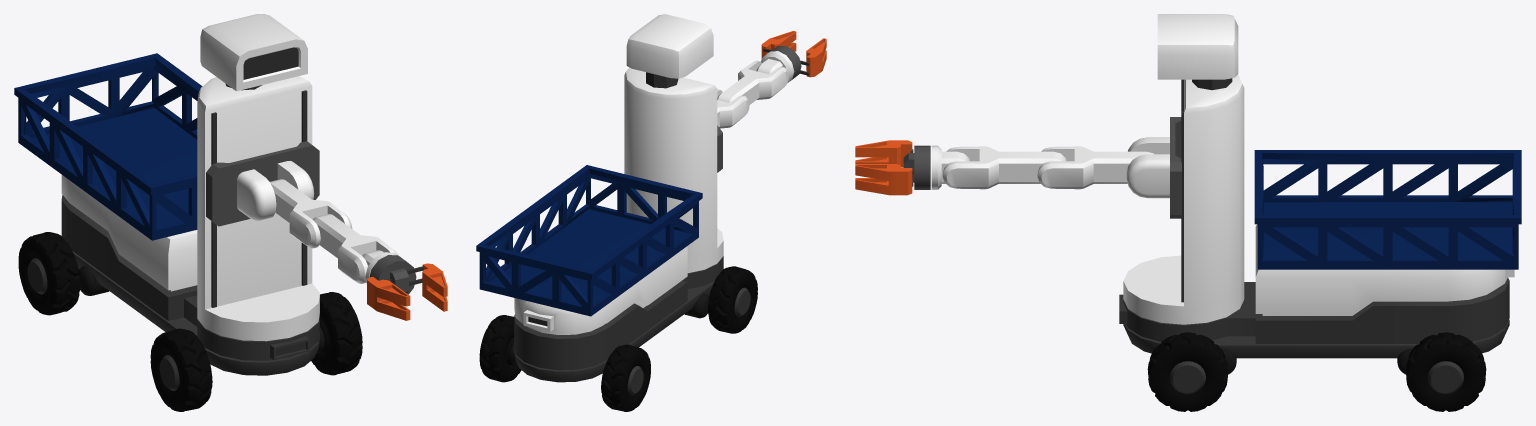
The model's file is HarvestRobo_0002_03.fbx.
3 views of the same model, side by side, from view 1: azimuth 30°, elevation 25°; view 2: azimuth 150°, elevation 25°; view 3: azimuth 270°, elevation 25° (orthographic). The views are drawn at different scales.
Visible parts, largest first — view 1: RobotBase, RobotBody, RobotArmBase, TireRR, TireFR, TireFL, RobotArm2, RobotArm1, RobotArm3, Hand1, Hand2; view 2: RobotBase, RobotBody, TireFR, TireRR, TireRL, RobotArm2, RobotArm3, RobotArm1, Hand1, Hand2; view 3: RobotBase, RobotBody, TireFL, TireRL, RobotArm2, RobotArmBase, RobotArm1, RobotArm3, Hand2, Hand1.
Part boxes in pixels (left/top/right/bottom): RobotBase: left=14, top=53, right=324, bottom=375; RobotBody: left=197, top=14, right=319, bottom=341; RobotArmBase: left=206, top=141, right=319, bottom=226; TireRR: left=18, top=232, right=80, bottom=315; TireFR: left=150, top=328, right=212, bottom=411; TireFL: left=311, top=292, right=362, bottom=375; RobotArm2: left=313, top=214, right=398, bottom=283; RobotArm1: left=270, top=179, right=352, bottom=248; RobotArm3: left=362, top=250, right=416, bottom=294; Hand1: left=367, top=276, right=410, bottom=320; Hand2: left=406, top=263, right=447, bottom=311; RobotBase: left=476, top=165, right=723, bottom=382; RobotBody: left=624, top=14, right=723, bottom=273; TireFR: left=708, top=266, right=757, bottom=333; TireRR: left=601, top=344, right=650, bottom=411; TireRL: left=479, top=315, right=521, bottom=382; RobotArm2: left=717, top=60, right=788, bottom=104; RobotArm3: left=756, top=45, right=801, bottom=82; RobotArm1: left=717, top=89, right=749, bottom=128; Hand1: left=799, top=38, right=826, bottom=77; Hand2: left=761, top=31, right=796, bottom=58; RobotBase: left=1119, top=150, right=1521, bottom=374; RobotBody: left=1123, top=14, right=1244, bottom=324; TireFL: left=1147, top=332, right=1227, bottom=411; TireRL: left=1406, top=332, right=1486, bottom=411; RobotArm2: left=942, top=146, right=1066, bottom=189; RobotArmBase: left=1126, top=117, right=1181, bottom=218; RobotArm1: left=1037, top=146, right=1153, bottom=189; RobotArm3: left=903, top=145, right=969, bottom=189; Hand2: left=855, top=161, right=913, bottom=195; Hand1: left=855, top=140, right=913, bottom=167.
Bounding box in the file's own units: 99.8 × 331 × 190.
